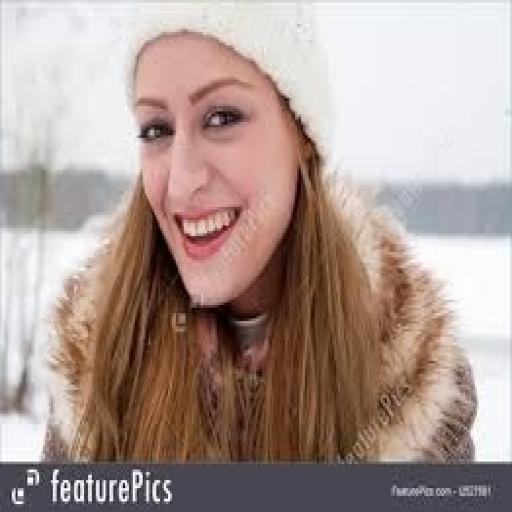laughing: (37, 10, 481, 462)
